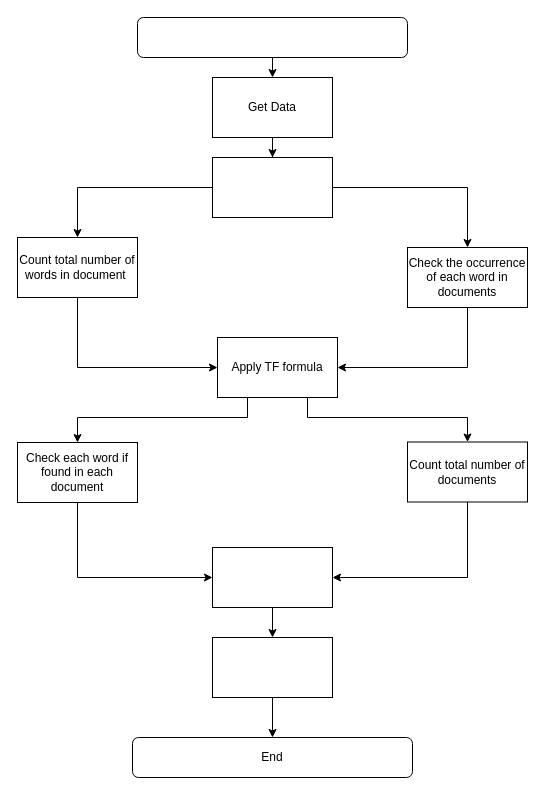
The diagram is 545 pixels wide and 795 high, and some of its shapes have lost their labels. Here are the shapes that lost their labels. From the top down, the centre of each, then its label:
[272,37]: Start
[272,187]: Preprocessing
[272,577]: Apply IDF formula
[272,667]: Apply TF-IDF formula
